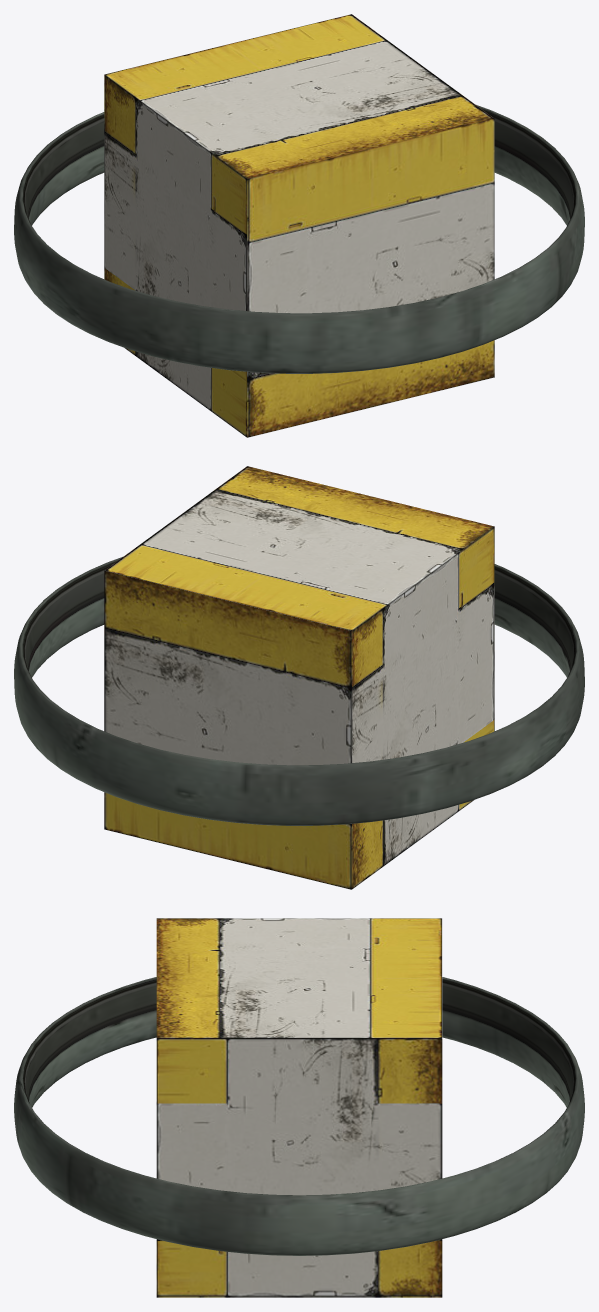
3 views of the same model, one above another, from view 1: azimuth 30°, elevation 25°; view 2: azimuth 150°, elevation 25°; view 3: azimuth 270°, elevation 25° (orthographic).
Parts seen in each view (by area): view 1: Cube, Torus.001; view 2: Cube, Torus.001; view 3: Cube, Torus.001.
Boxes of the visible parts, x1,y1,x2,y2 form: Cube: (104, 14, 494, 437); Torus.001: (14, 105, 584, 373); Cube: (104, 466, 494, 889); Torus.001: (14, 557, 584, 825); Cube: (156, 918, 442, 1297); Torus.001: (14, 977, 584, 1255).
Bounding box in the file's own units: 4 × 2 × 4.
2 materials, 2 textured.
